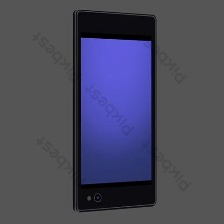phone: (69, 7, 159, 214)
